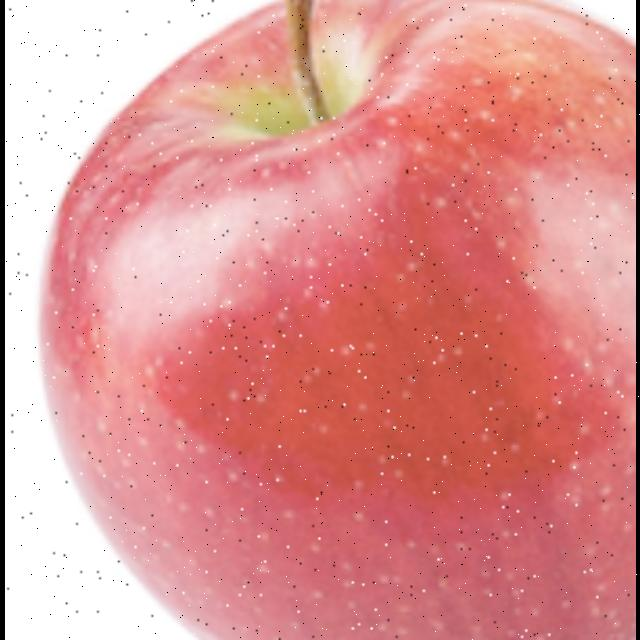Apel Segar: (14, 0, 636, 640)
